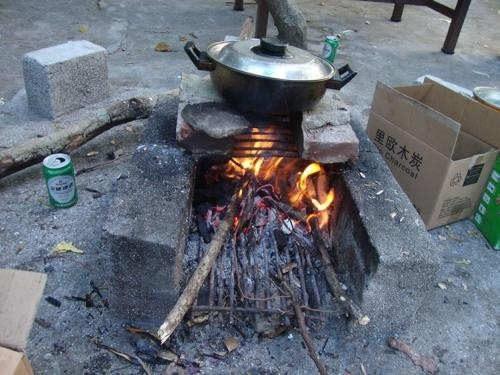fire: (224, 126, 338, 230), (288, 159, 335, 227), (228, 126, 276, 174)
